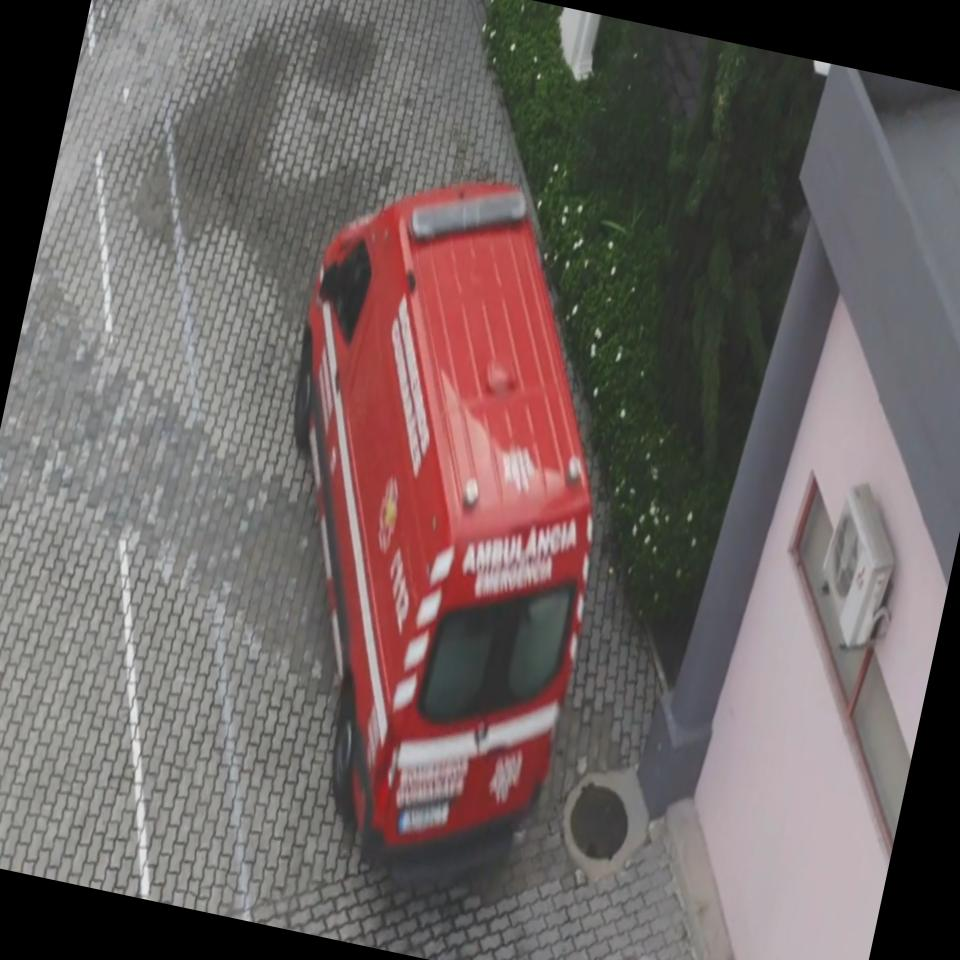viatura: (194, 141, 672, 910)
